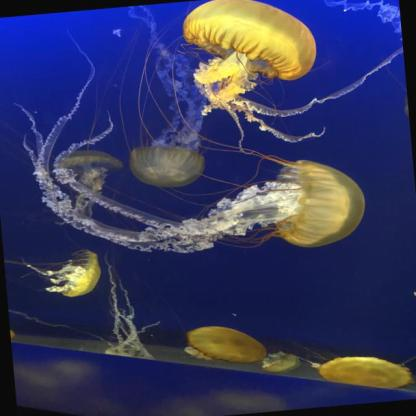jellyfish: (180, 0, 320, 90), (270, 156, 368, 250), (318, 351, 413, 395), (186, 321, 266, 369), (130, 142, 205, 191), (54, 249, 101, 297), (57, 147, 122, 178), (262, 352, 301, 376)
